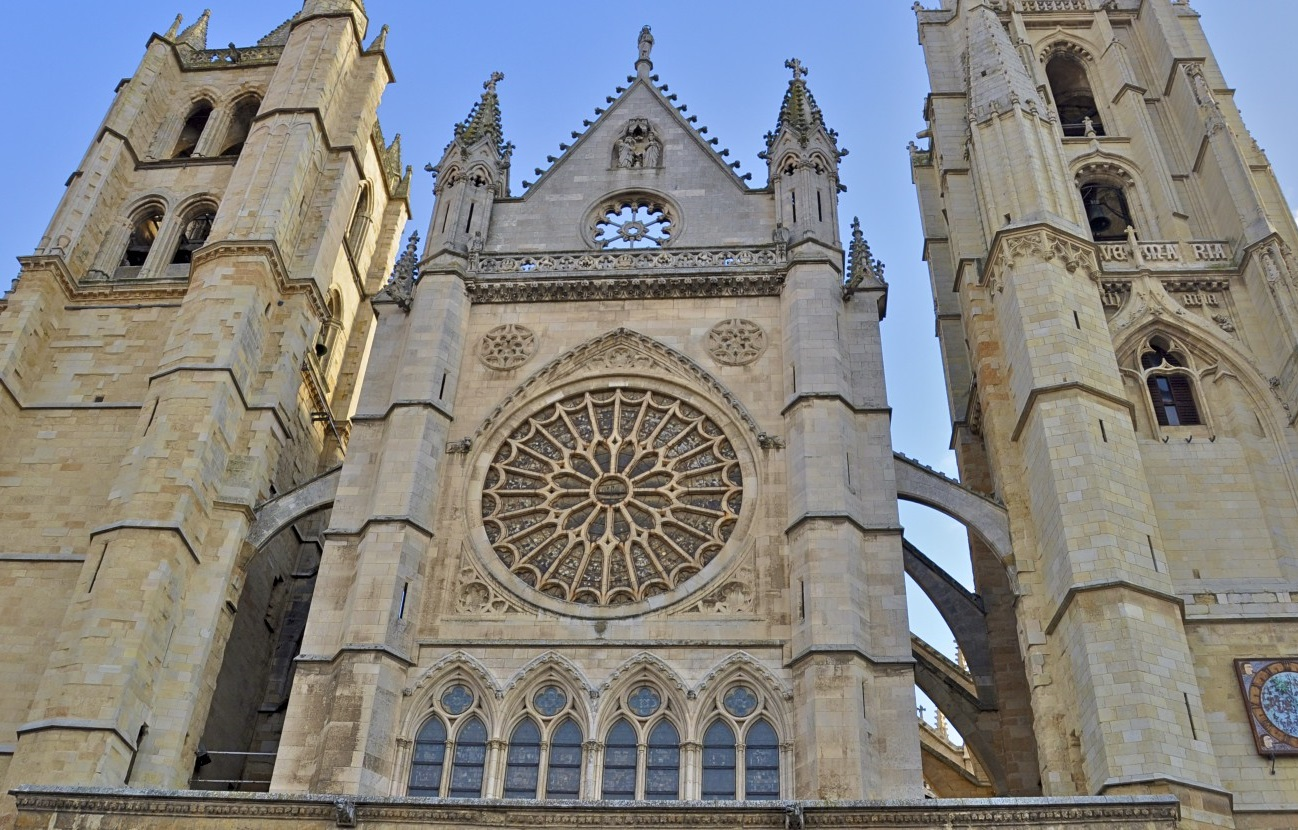arco-apuntado: (691, 648, 793, 740), (593, 649, 691, 741), (402, 649, 498, 739), (499, 648, 592, 738), (1115, 312, 1225, 355)
pinaculo-gotico: (763, 50, 839, 167), (446, 67, 518, 171), (839, 210, 882, 285)
